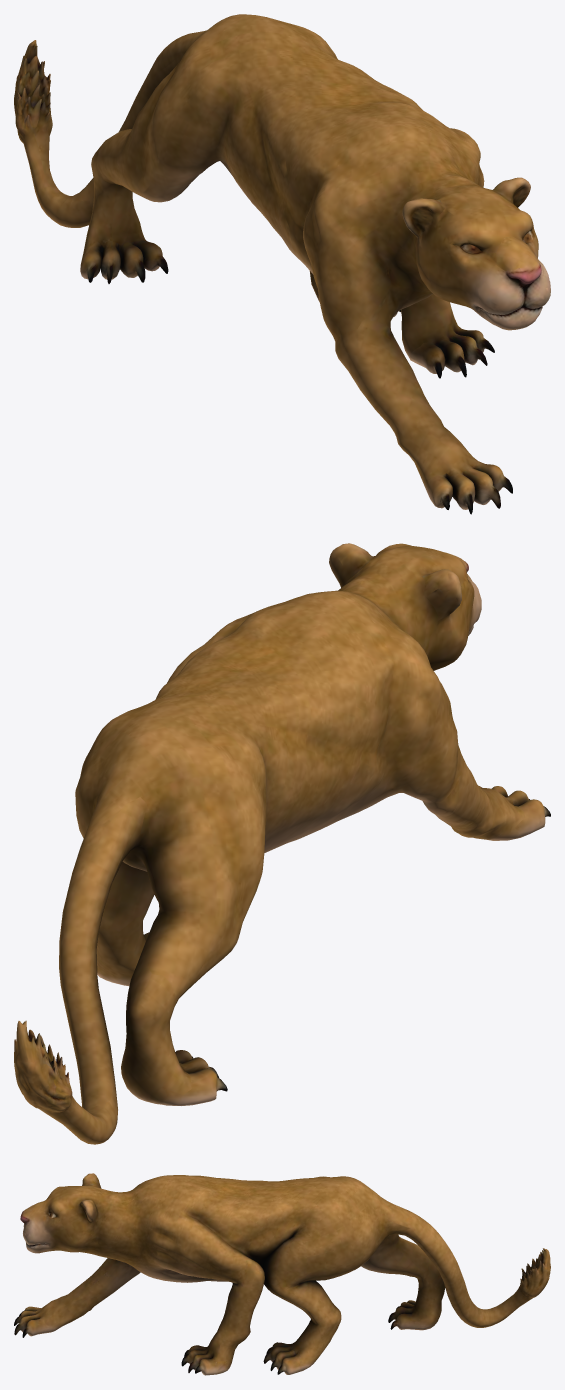
The model's file is MZ4250 - Lioness.glb.
The picture shows the model from 3 angles, top to bottom: view 1: azimuth 30°, elevation 25°; view 2: azimuth 150°, elevation 25°; view 3: azimuth 270°, elevation 25°; orthographic projection. The views are drawn at different scales.
Parts seen in each view (by area): view 1: Wolfey2.001; view 2: Wolfey2.001; view 3: Wolfey2.001.
Part boxes in pixels (x1,y1,x2,y2): Wolfey2.001: [14, 14, 550, 514]; Wolfey2.001: [14, 543, 550, 1144]; Wolfey2.001: [14, 1173, 550, 1375].
Bounding box in the file's own units: 0.3891 × 0.4585 × 1.34.
Materials: 1 (1 with a texture image).
